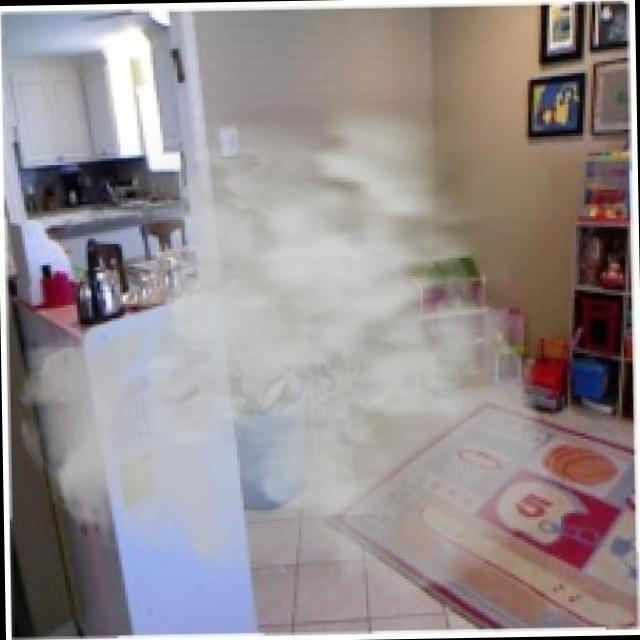Smoke: (7, 76, 568, 605)
